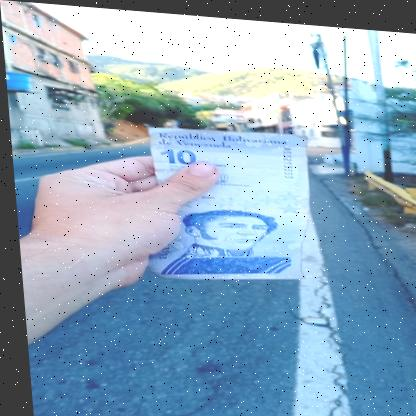ten-front-vef: (137, 121, 318, 285)
